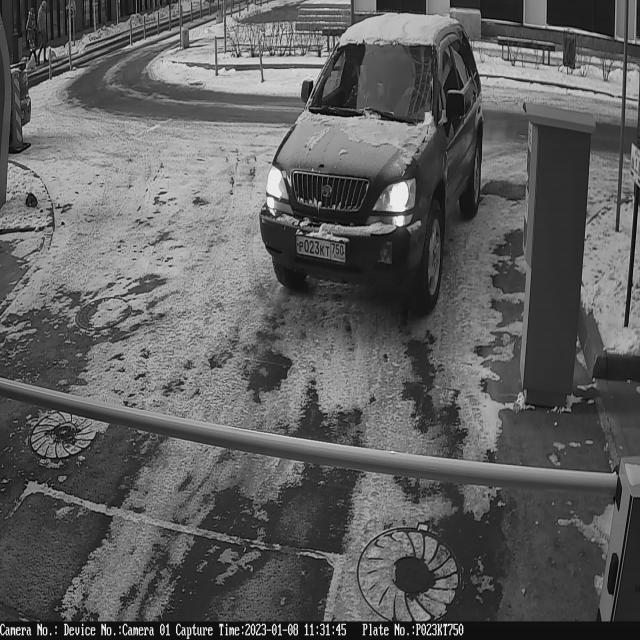car-plate-numbers: (295, 231, 349, 271)
